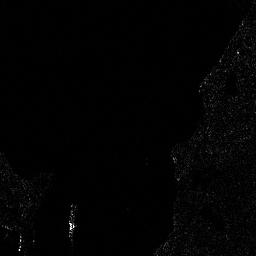ship: (66, 200, 79, 239)
